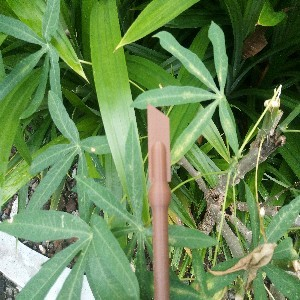cutter: (146, 102, 172, 300)
